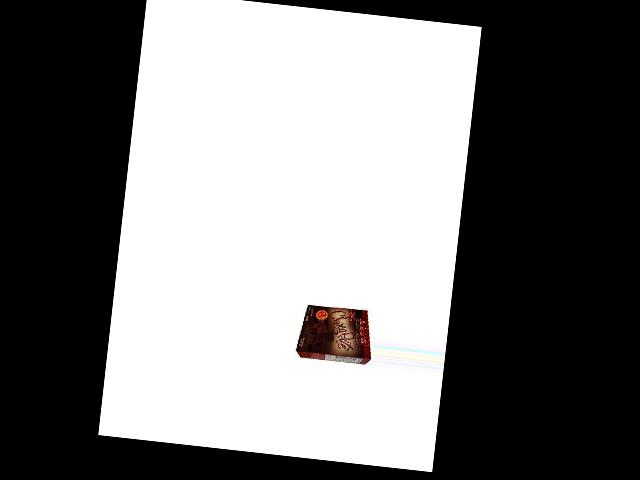chocolate: (295, 301, 374, 364)
